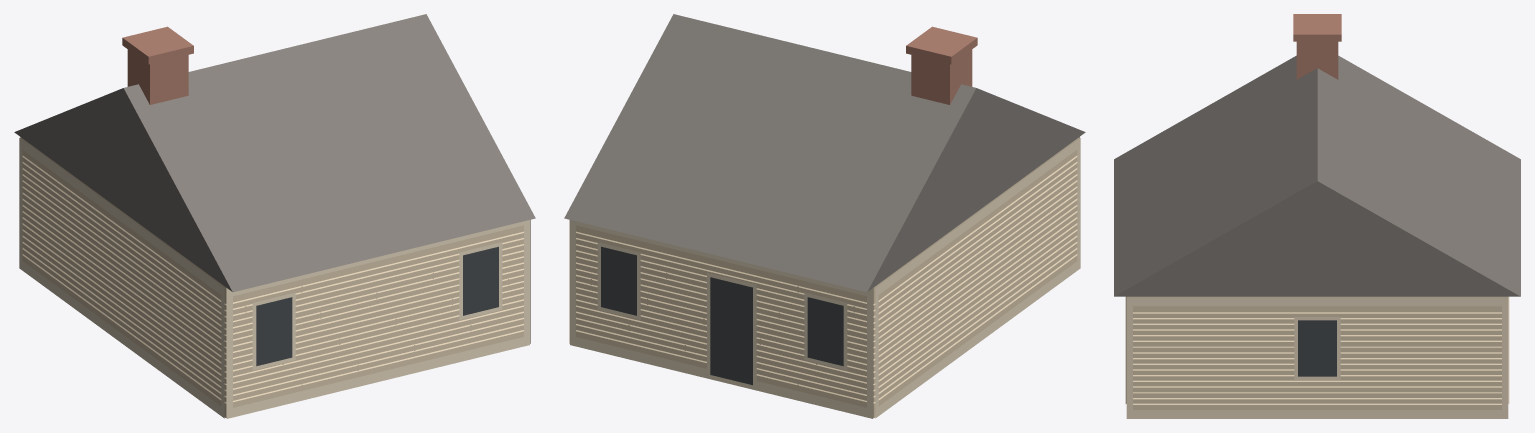
File: recon_1835_blk_randolph_clinton_d4_02__inferred_1835.glb
The picture shows the model from 3 angles, left to right: view 1: azimuth 30°, elevation 25°; view 2: azimuth 150°, elevation 25°; view 3: azimuth 270°, elevation 25°; orthographic projection. The views are drawn at different scales.
Visible parts, largest first — view 1: recon_1835_blk_randolph_clinton_d4_02__inferred_1835; view 2: recon_1835_blk_randolph_clinton_d4_02__inferred_1835; view 3: recon_1835_blk_randolph_clinton_d4_02__inferred_1835.
Boxes of the visible parts, bbox=[...] form: recon_1835_blk_randolph_clinton_d4_02__inferred_1835: bbox=[14, 14, 535, 418]; recon_1835_blk_randolph_clinton_d4_02__inferred_1835: bbox=[564, 14, 1085, 418]; recon_1835_blk_randolph_clinton_d4_02__inferred_1835: bbox=[1114, 14, 1520, 418].
Bounding box in the file's own units: 6.64 × 6.06 × 8.2.
